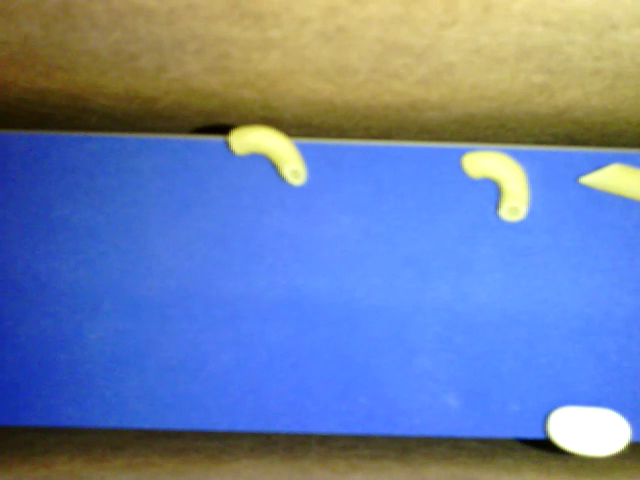elbow: (459, 149, 530, 222), (227, 124, 307, 187)
penne: (575, 161, 639, 200)
